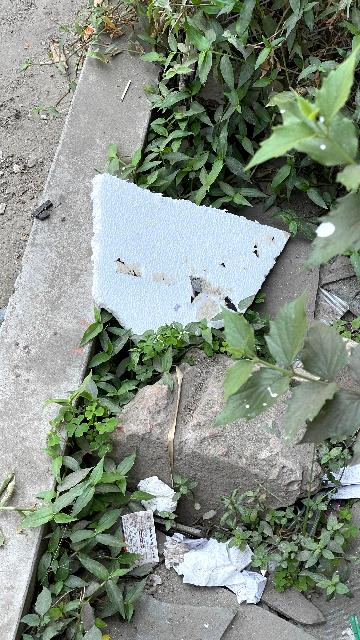cocksheet: (84, 167, 294, 350)
